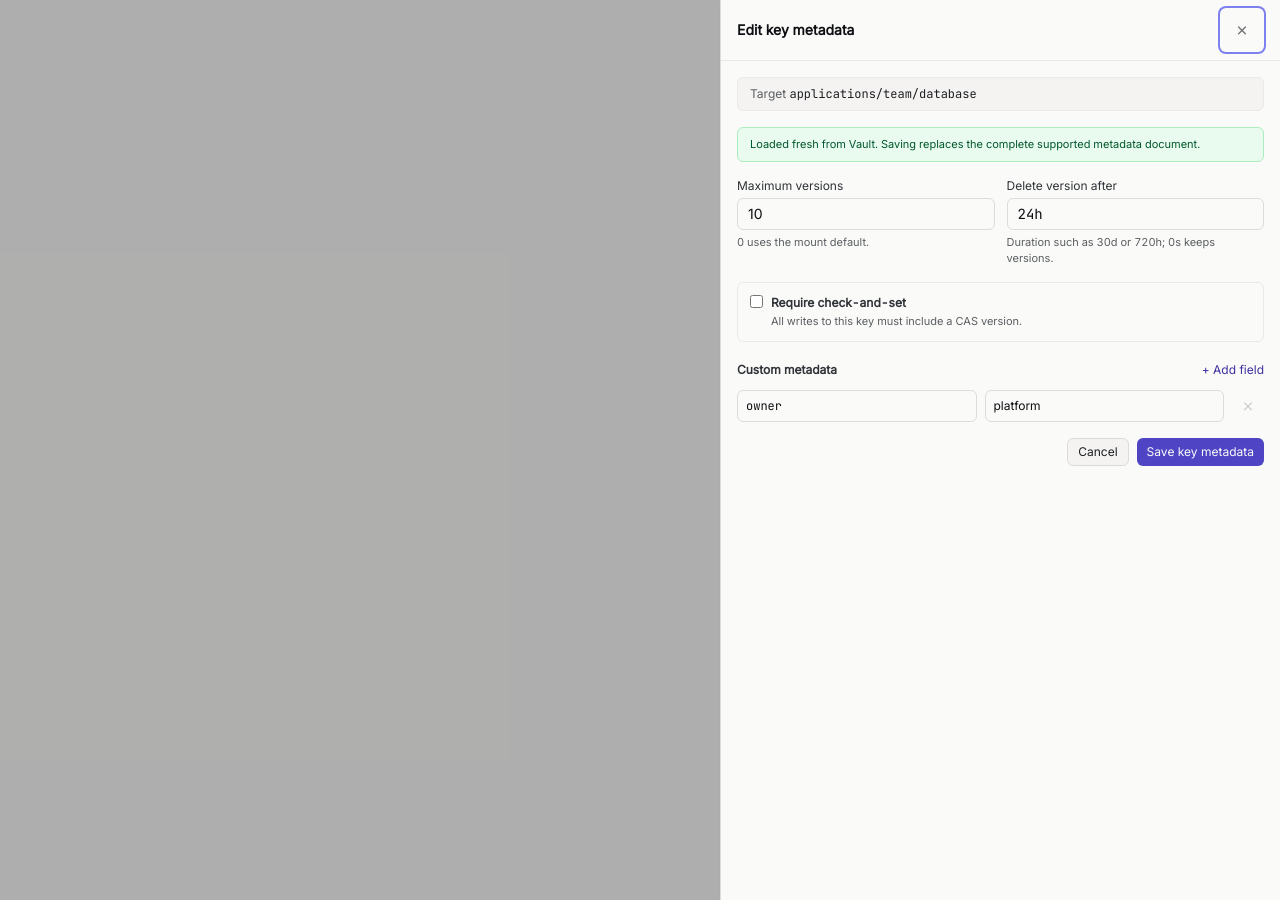
Scenario: SecretMetadataDrawer › preserves the draft and blocks a stale save until the user loads latest metadata
This screenshot has width=1280, height=900.
Check: the text "Loaded fresh from Vault" is shown, box top-left (750, 137), bottom-right (1200, 151)
Replace the text in the field labelled "Maximum versions" with "12". click: point(866, 214)
box: top-left (737, 198), bottom-right (994, 230)
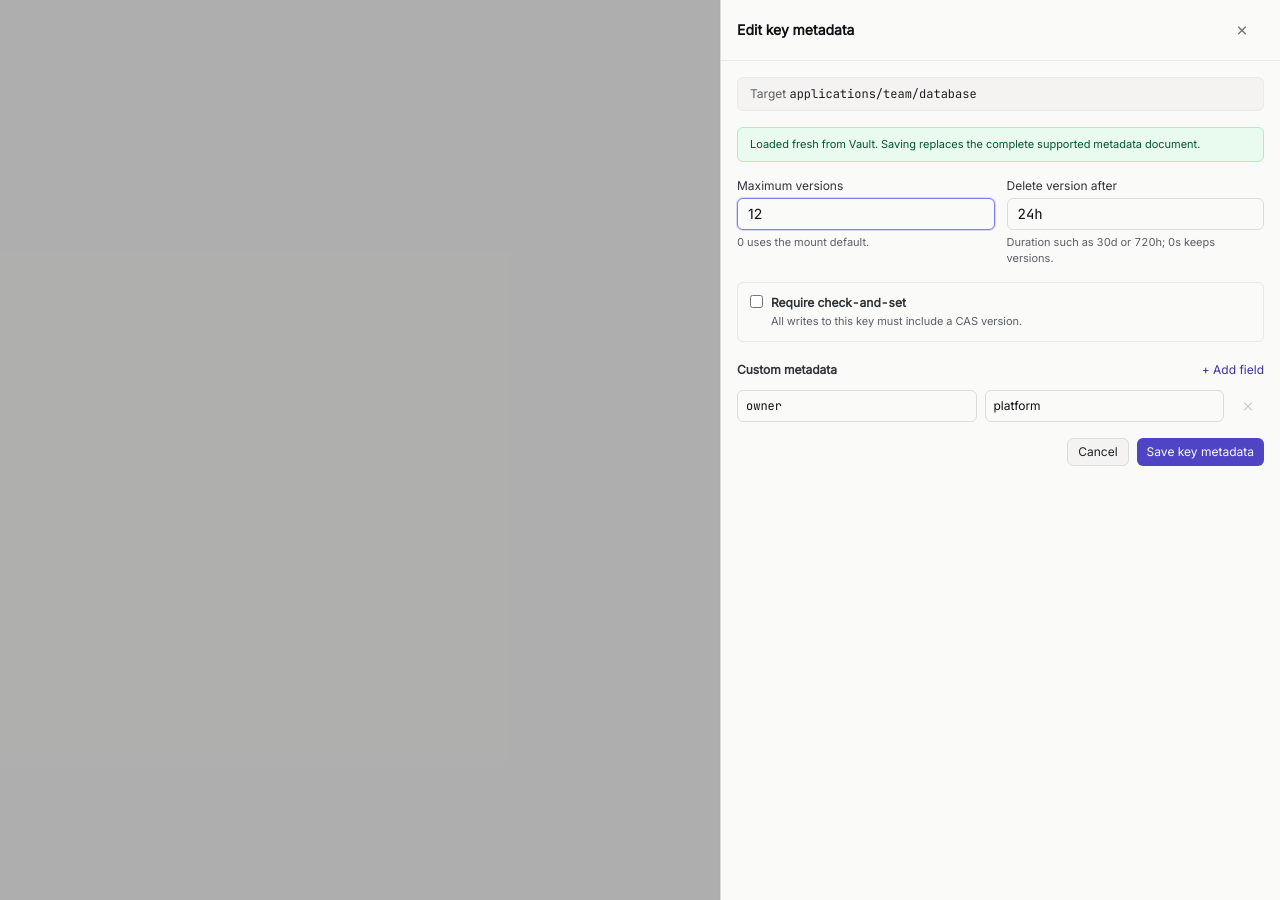
Click the button "Save key metadata". click: point(1200, 452)
box: top-left (1137, 438), bottom-right (1264, 466)
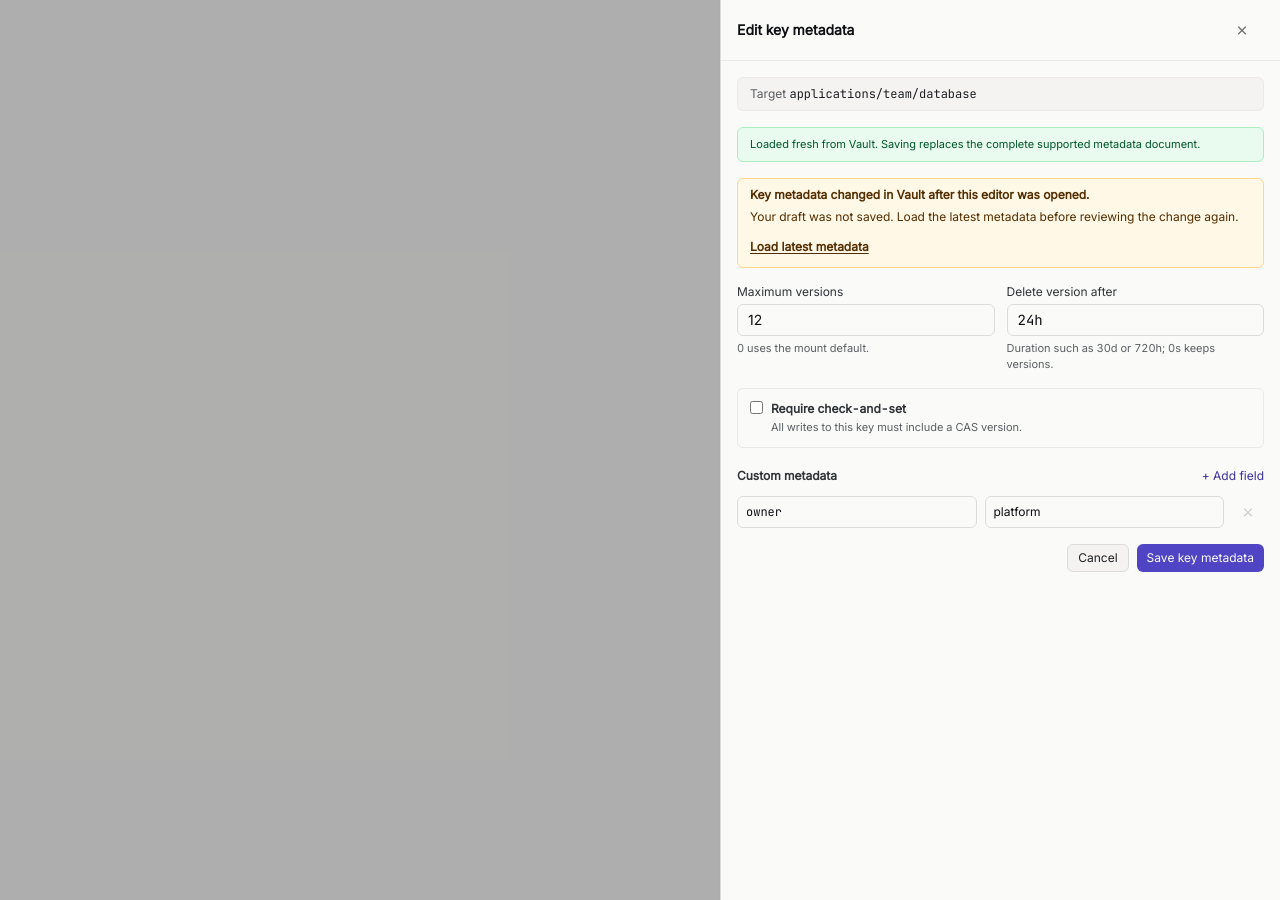
Check: the field named "Custom metadata value for owner" holds "platform", box top-left (984, 496), bottom-right (1224, 528)
Check: the text "Key metadata changed in Vault after this editor was opened." is shown, box top-left (750, 186), bottom-right (1089, 202)
Click the button "Load latest metadata". click: point(809, 246)
box: top-left (750, 234), bottom-right (869, 258)
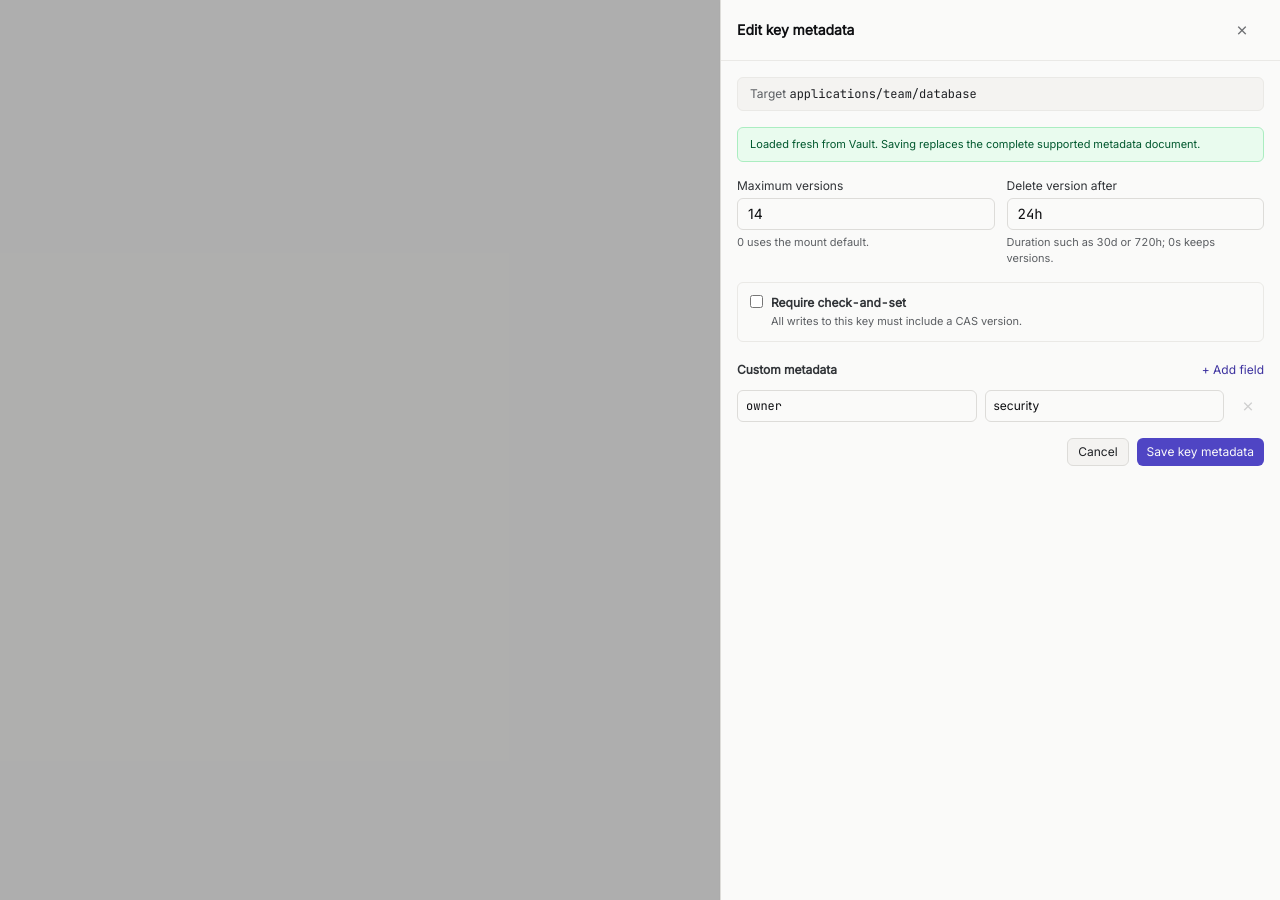
Check: the field labelled "Maximum versions" holds "14", box top-left (737, 198), bottom-right (994, 230)
Check: the field named "Custom metadata value for owner" holds "security", box top-left (984, 390), bottom-right (1224, 422)
